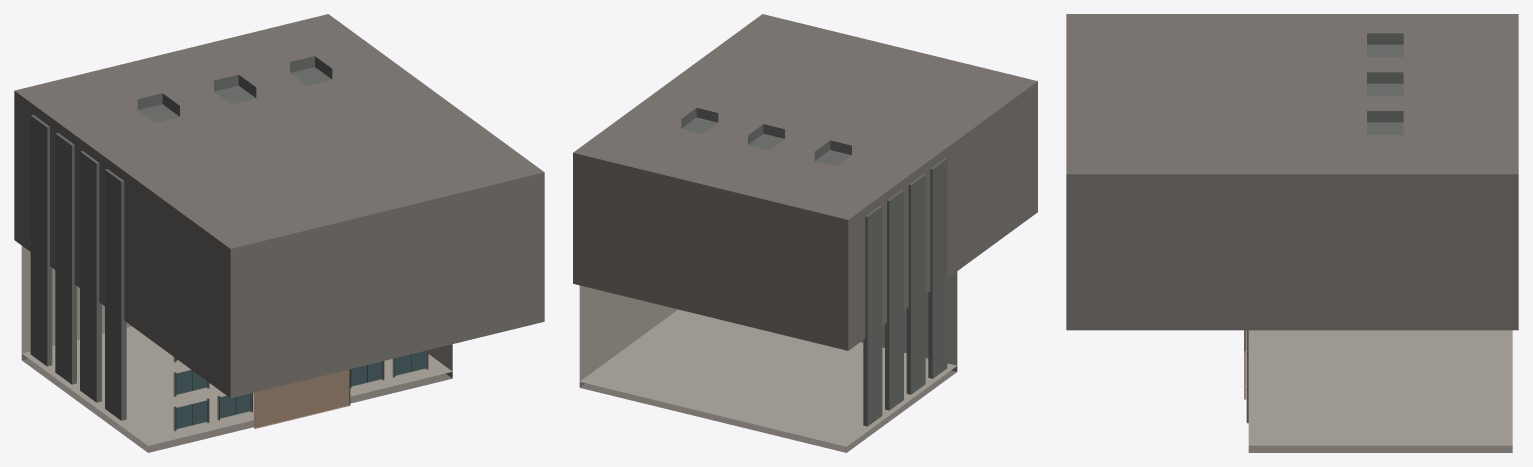
File: office_detail.glb
The picture shows the model from 3 angles, left to right: view 1: azimuth 30°, elevation 25°; view 2: azimuth 150°, elevation 25°; view 3: azimuth 270°, elevation 25°; orthographic projection. The views are drawn at different scales.
Size of the model in its own units: 33.3 by 28.5 by 39.35.
